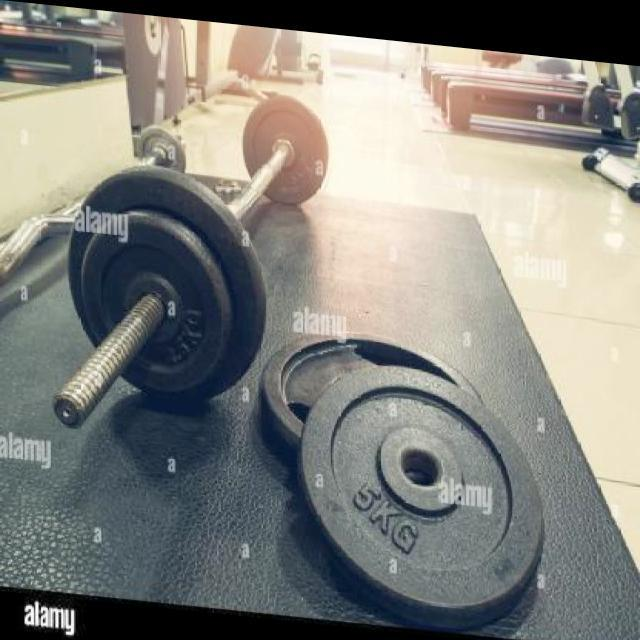barbell: (39, 147, 273, 453)
